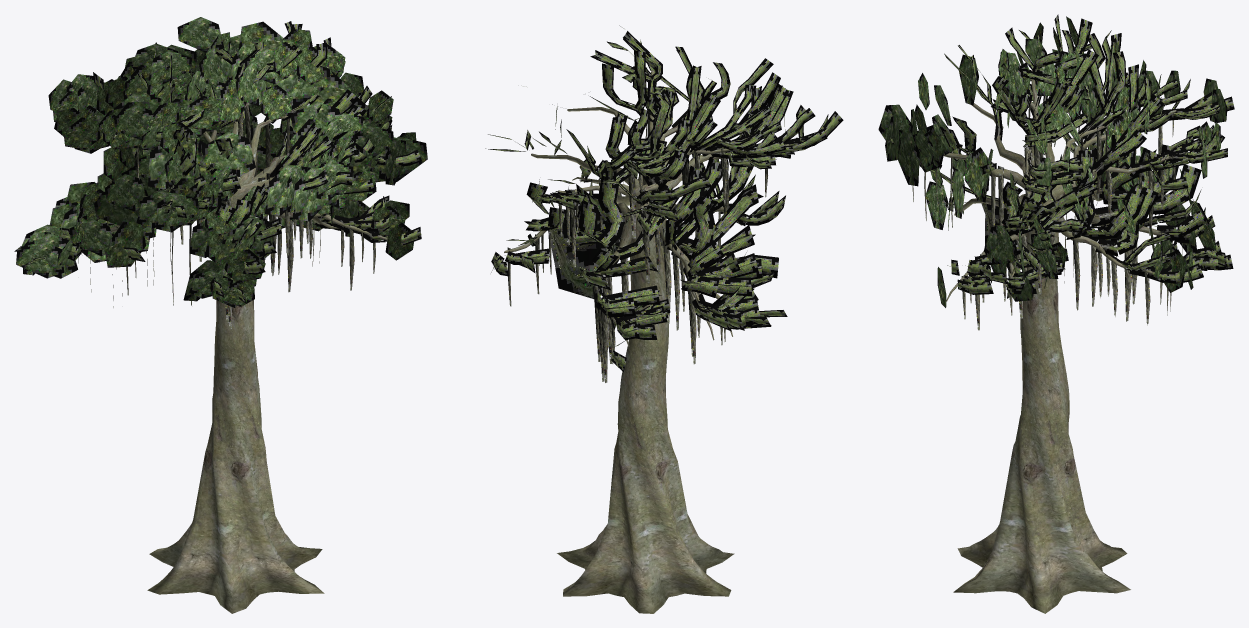
Rendered from Kapok-transformed.glb.
The picture shows the model from 3 angles, left to right: view 1: azimuth 30°, elevation 25°; view 2: azimuth 150°, elevation 25°; view 3: azimuth 270°, elevation 25°; orthographic projection.
Visible parts, largest first — view 1: Kapok_LOD0; view 2: Kapok_LOD0; view 3: Kapok_LOD0.
Boxes of the visible parts, left/top/right/bottom form: Kapok_LOD0: left=14, top=17, right=427, bottom=613; Kapok_LOD0: left=485, top=25, right=843, bottom=613; Kapok_LOD0: left=878, top=14, right=1234, bottom=613.
Bounding box in the file's own units: 21.52 × 31.42 × 18.93.
Materials: 2 (2 with a texture image).
